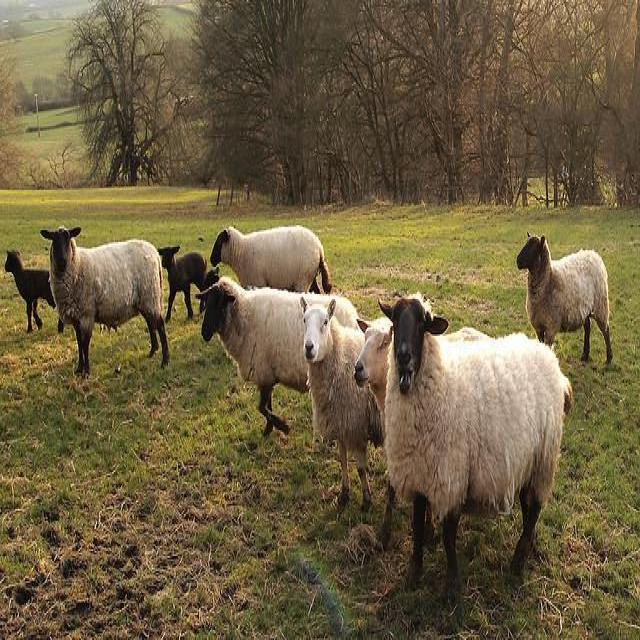Sheep: (374, 294, 573, 613), (195, 277, 361, 435), (40, 225, 170, 380), (301, 297, 385, 514), (517, 232, 614, 364), (210, 225, 332, 294), (354, 317, 392, 452), (1, 247, 56, 334), (157, 247, 209, 324)
